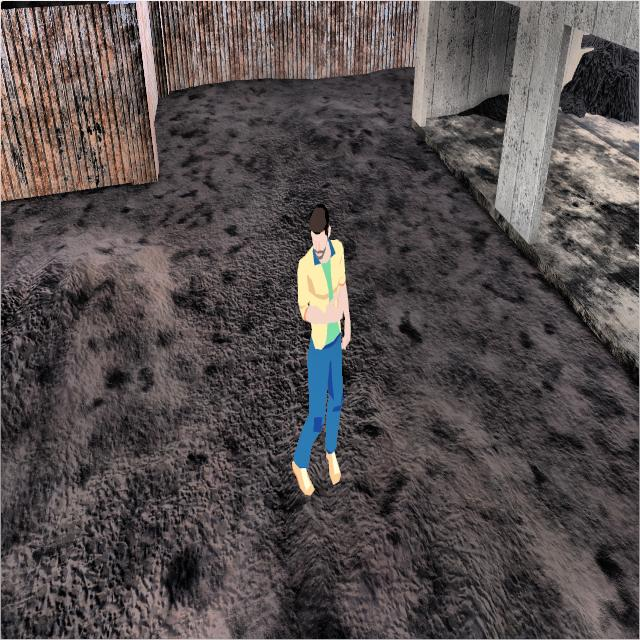good: (270, 184, 364, 508)
